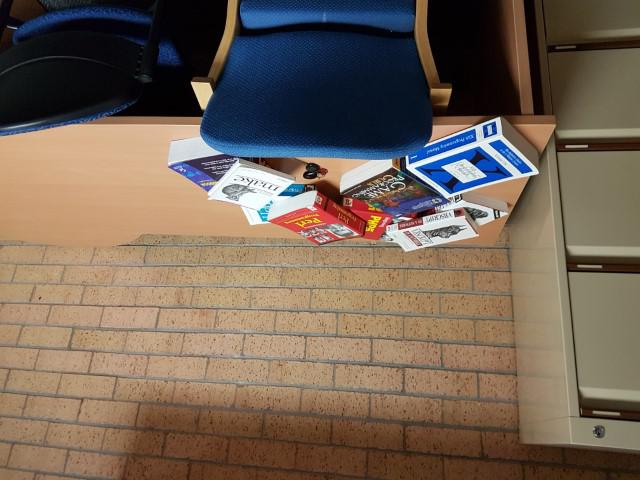key: (293, 157, 323, 174)
